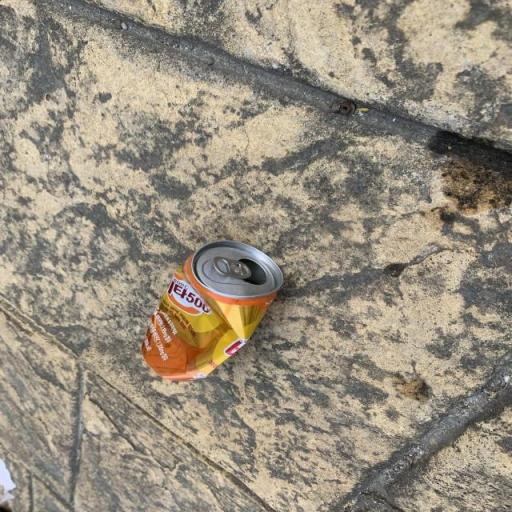metal: (109, 228, 301, 402)
